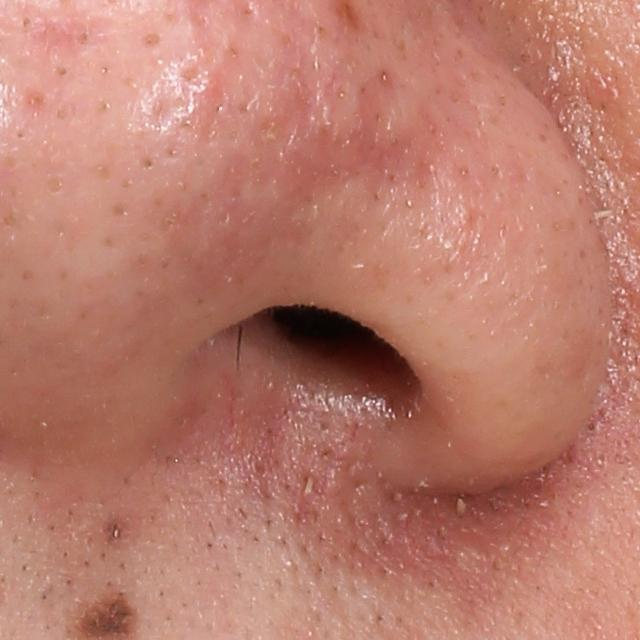nevus: (100, 507, 141, 548)
